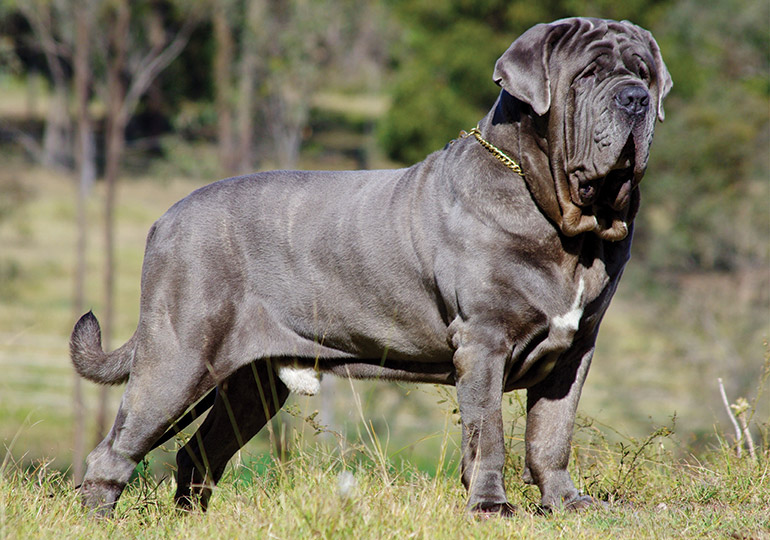neapolitan_mastiff: (69, 16, 674, 527)
